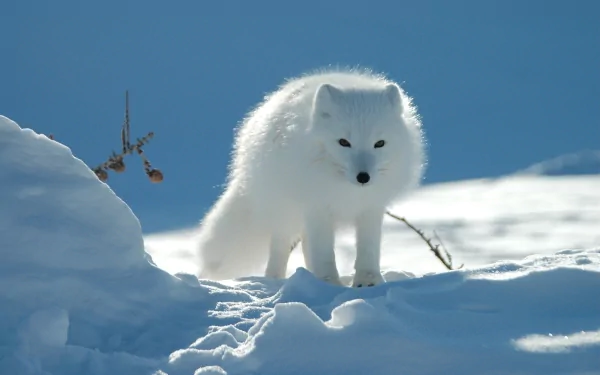arcticfox: (322, 112, 382, 201)
